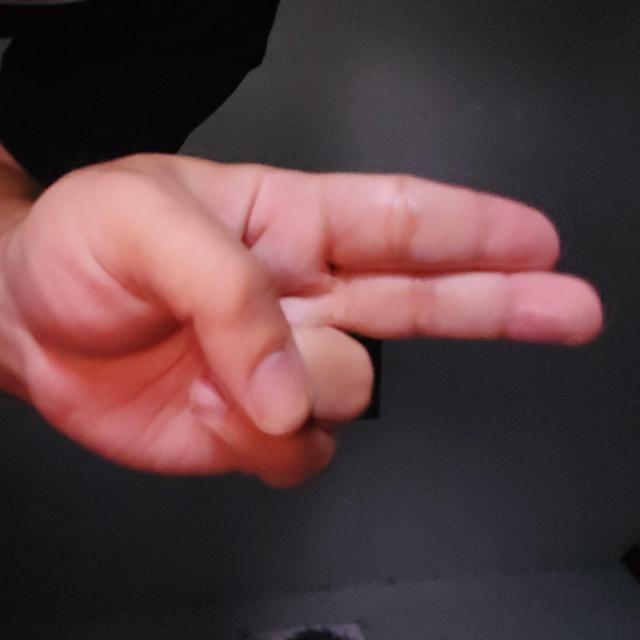U: (151, 34, 484, 624)
